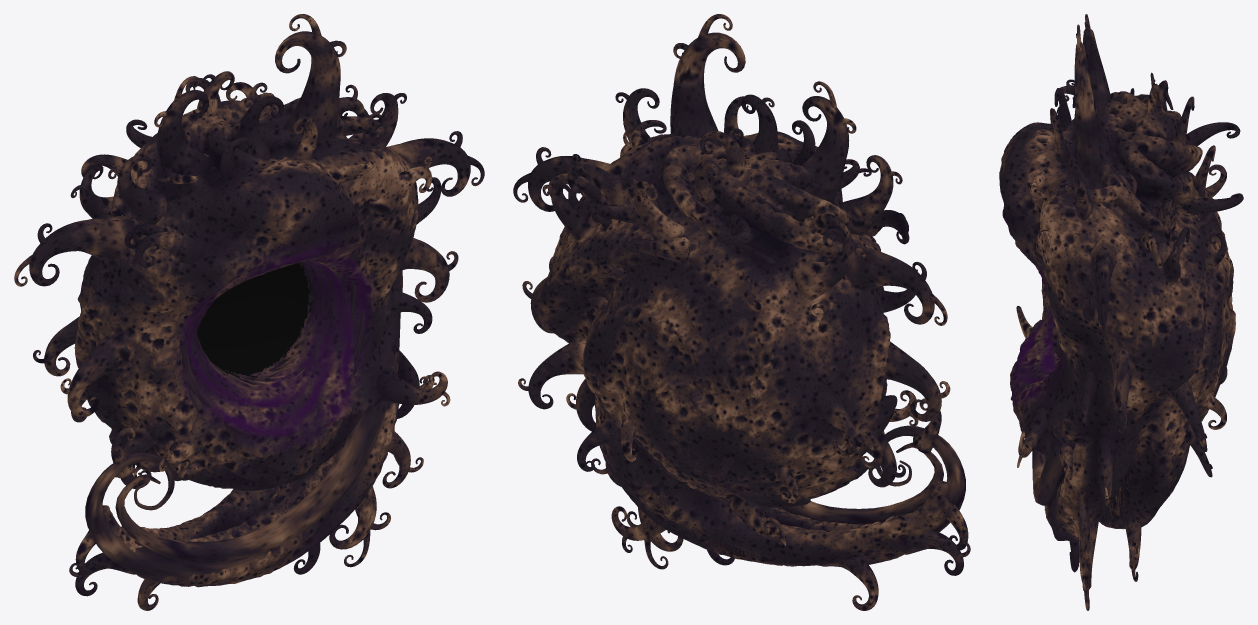
Rendered from black_hole_construct_draco200k.glb.
3 renders of one model, left to right at view 1: azimuth 30°, elevation 25°; view 2: azimuth 150°, elevation 25°; view 3: azimuth 270°, elevation 25°, orthographic. The views are drawn at different scales.
Visible parts, largest first — view 1: Low200k_Body, Low200k_Filigree; view 2: Low200k_Body, Low200k_Filigree; view 3: Low200k_Body, Low200k_Filigree.
Boxes of the visible parts, bbox=[...] form: Low200k_Body: bbox=[74, 92, 418, 587]; Low200k_Filigree: bbox=[14, 14, 484, 610]; Low200k_Body: bbox=[538, 131, 948, 567]; Low200k_Filigree: bbox=[513, 14, 970, 610]; Low200k_Body: bbox=[999, 91, 1235, 542]; Low200k_Filigree: bbox=[1010, 14, 1243, 610].
Bounding box in the file's own units: 100 × 120 × 47.78.
3 materials, 2 textured.
